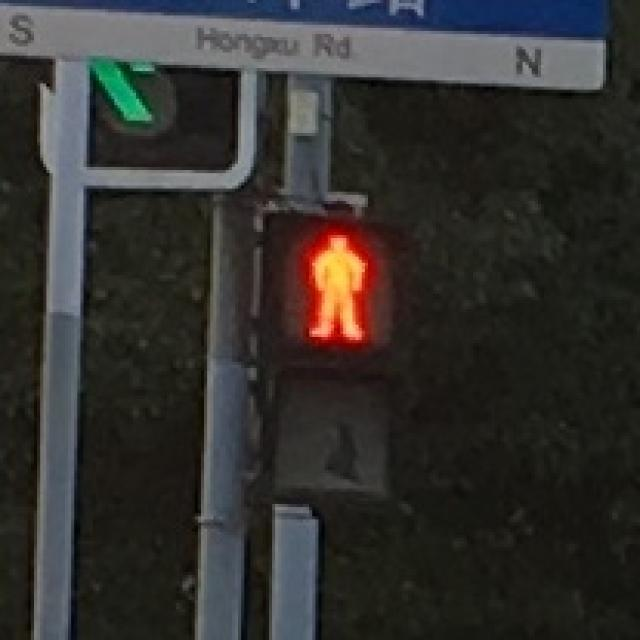red-light: (280, 218, 388, 351)
